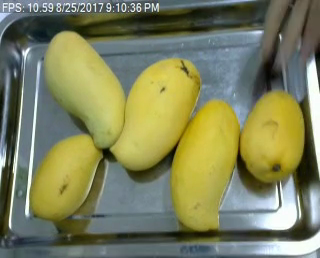Mango: (111, 55, 204, 169), (43, 29, 127, 149), (170, 99, 239, 231), (26, 128, 104, 219), (239, 88, 305, 184)
